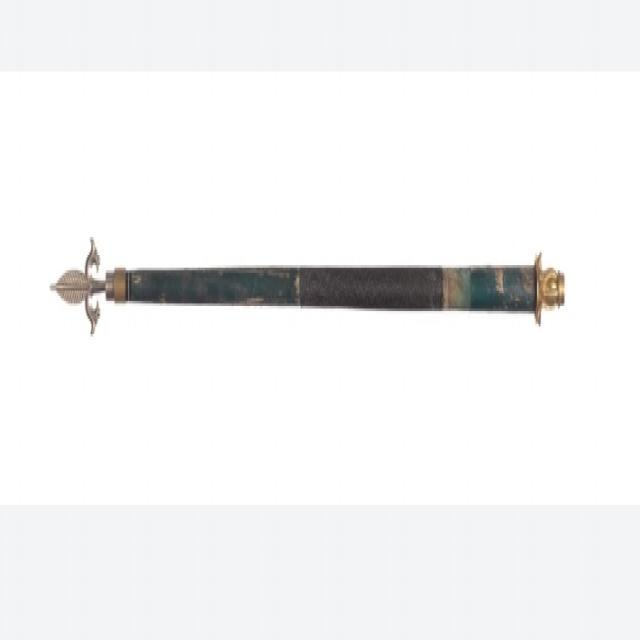spear: (44, 179, 584, 386)
